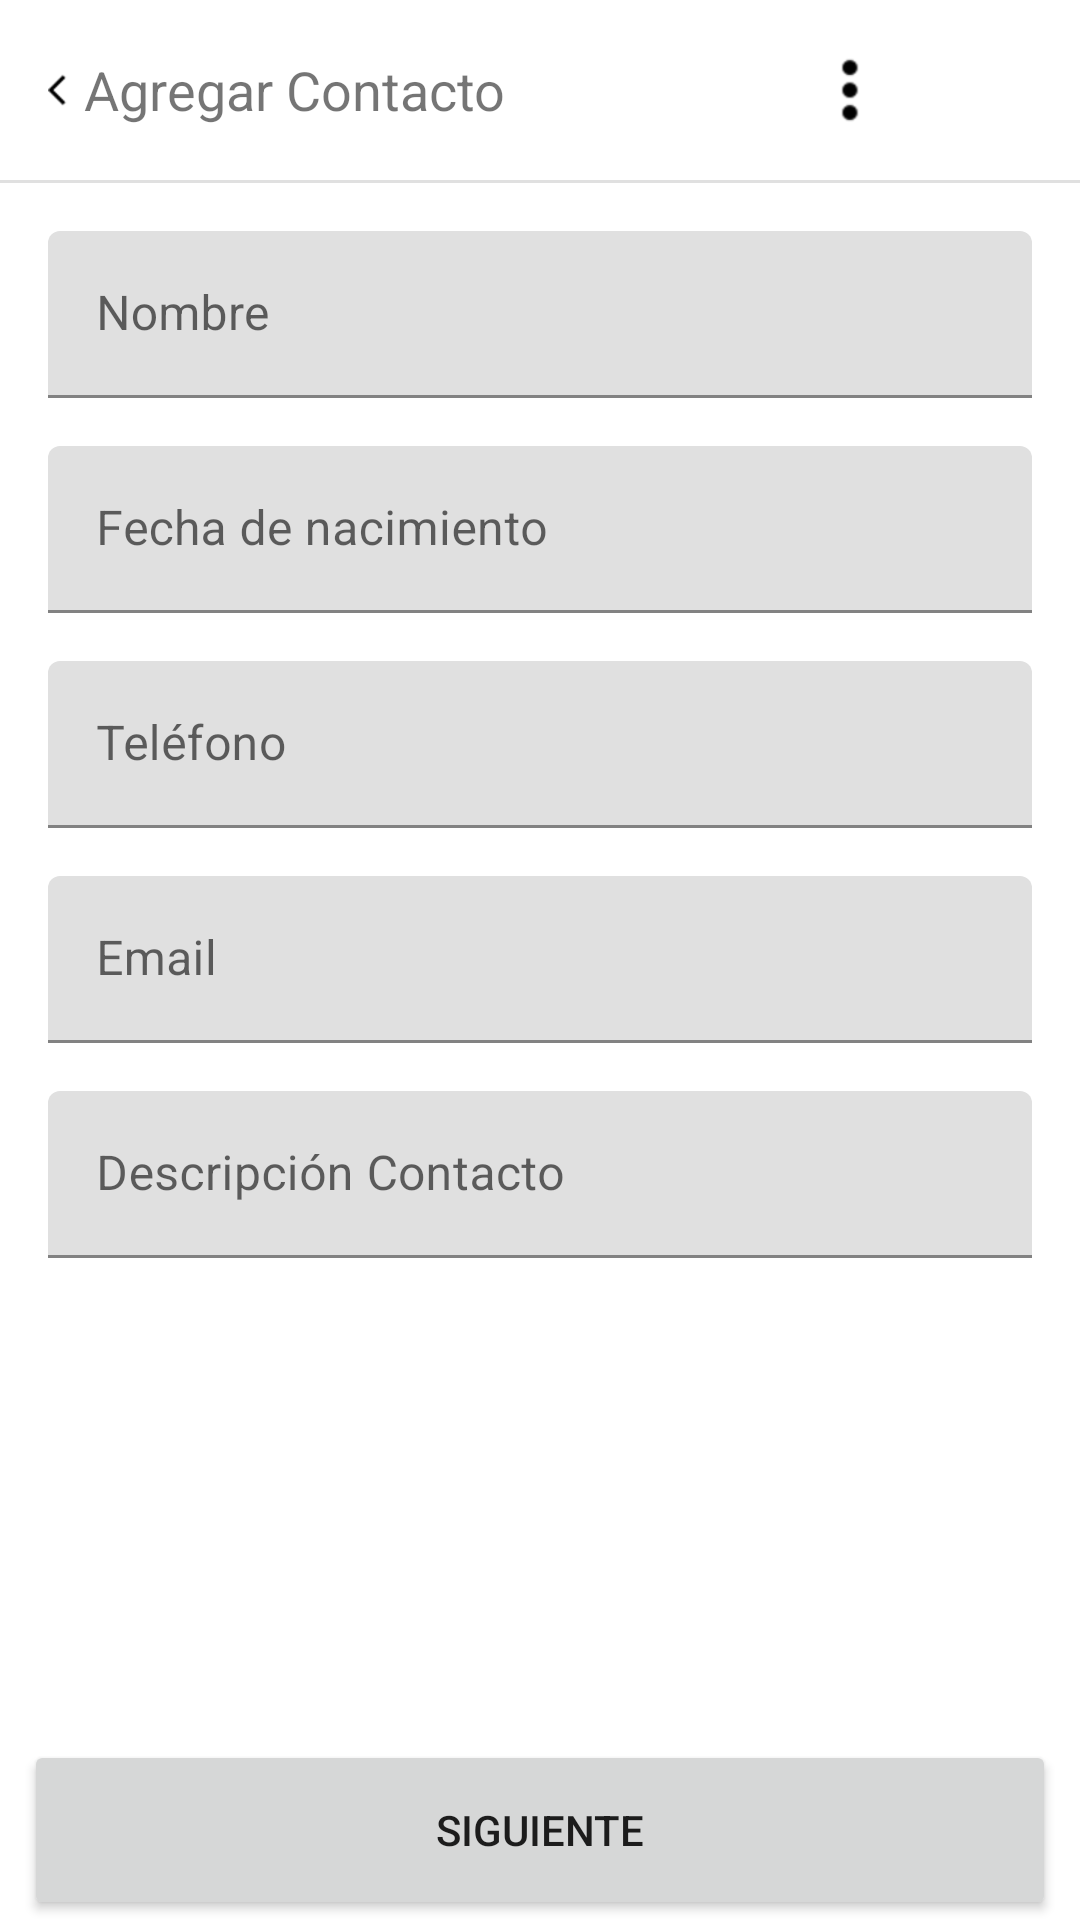

Named icons in this screenshot (1080×1920) and their centers, [x,y]:
arrow back: [57,90]
more vert: [850,90]
